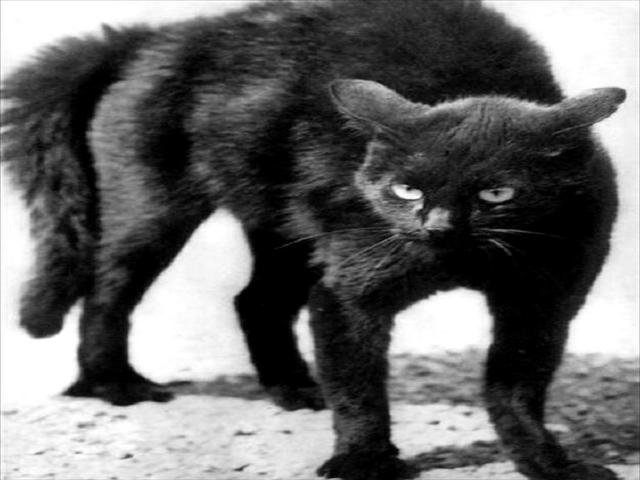cat: (14, 10, 632, 418)
